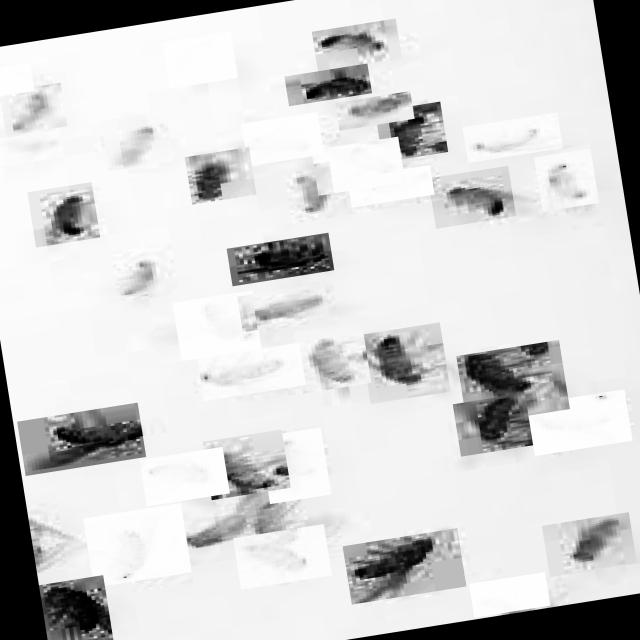fruit fly: (455, 340, 569, 425), (342, 528, 466, 604), (16, 403, 145, 476), (82, 503, 191, 588), (359, 322, 450, 404), (526, 389, 632, 456), (232, 524, 332, 590), (197, 342, 305, 402), (172, 290, 260, 362), (541, 512, 636, 578), (202, 430, 290, 500), (225, 233, 334, 287), (292, 322, 370, 394), (311, 137, 405, 196), (427, 166, 515, 229), (258, 428, 330, 504), (139, 446, 229, 506), (462, 112, 562, 164), (452, 393, 532, 457), (26, 182, 100, 248), (38, 575, 113, 640), (311, 18, 401, 72), (240, 112, 324, 167), (236, 283, 330, 332), (100, 110, 172, 172), (374, 101, 447, 162), (162, 32, 238, 88), (183, 147, 256, 205), (533, 149, 598, 212), (271, 162, 336, 221), (346, 165, 434, 208), (468, 572, 550, 618), (284, 64, 372, 106), (0, 83, 66, 136), (334, 91, 414, 131), (0, 129, 63, 168), (0, 63, 33, 102)
